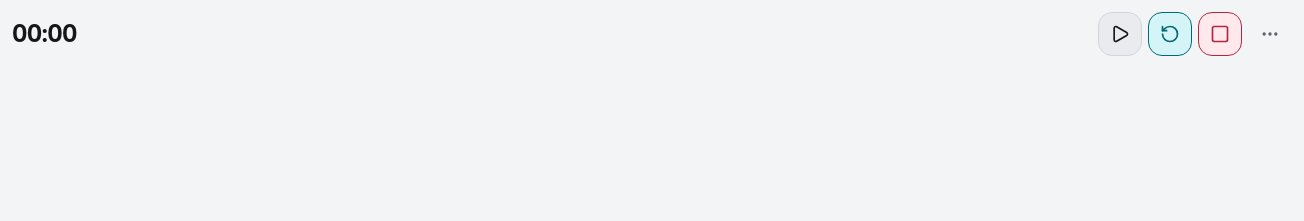
it: Workout metronome › does not autoplay and degrades explicitly when Web Audio is unavailable
Click the button named "Opzioni timer": {"x": 1270, "y": 34} x1=1248 y1=12 x2=1292 y2=56
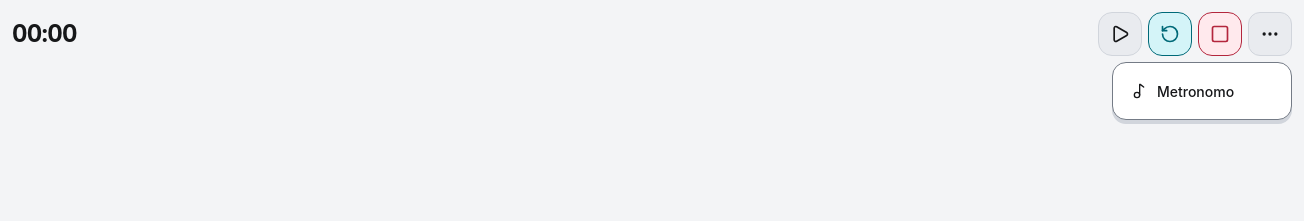
Click the menu item "Metronomo": {"x": 1202, "y": 91} x1=1119 y1=69 x2=1285 y2=113
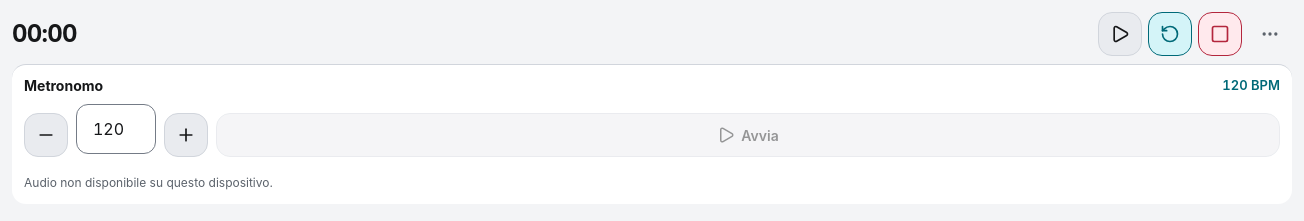
Result: the button "Avvia" is disabled at x1=216 y1=113 x2=1280 y2=157
Result: the text "Audio non disponibile su questo dispositivo." is shown at x1=24 y1=175 x2=273 y2=190
